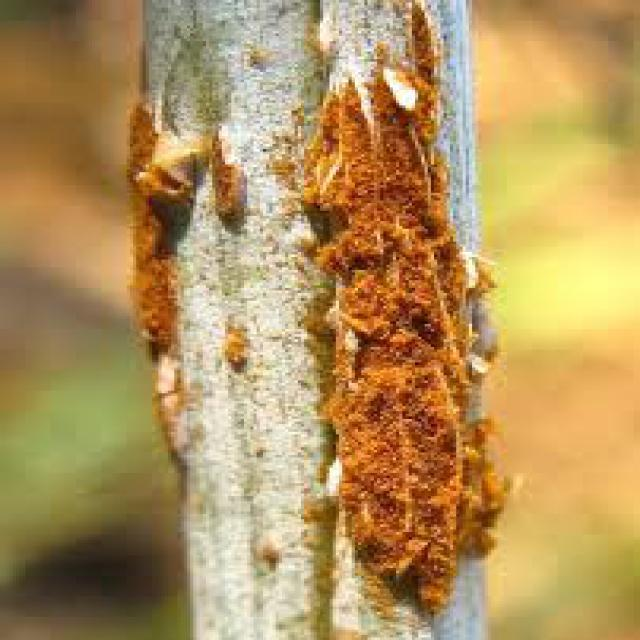wheat-stemrust: (307, 5, 521, 629), (126, 105, 247, 456), (221, 321, 251, 374)
